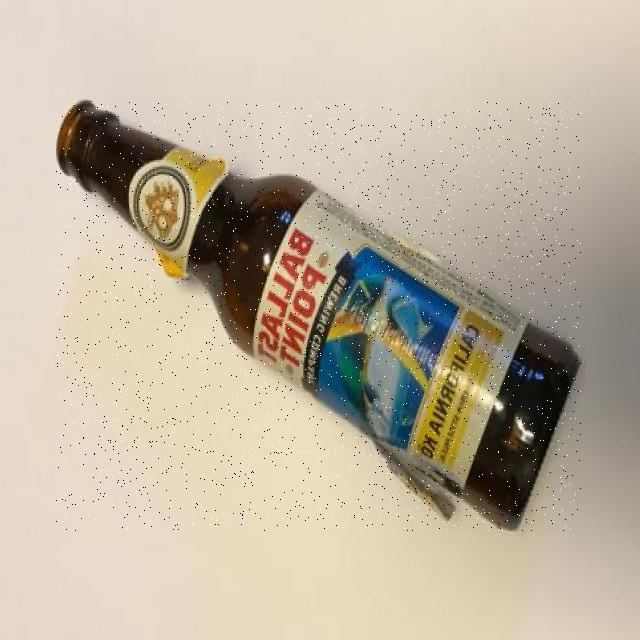glass: (57, 102, 581, 530)
